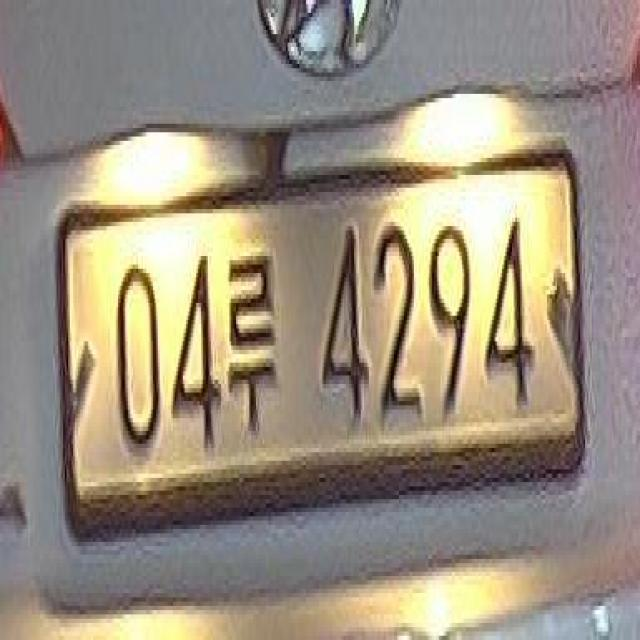illegal_plate: (59, 142, 588, 526)
